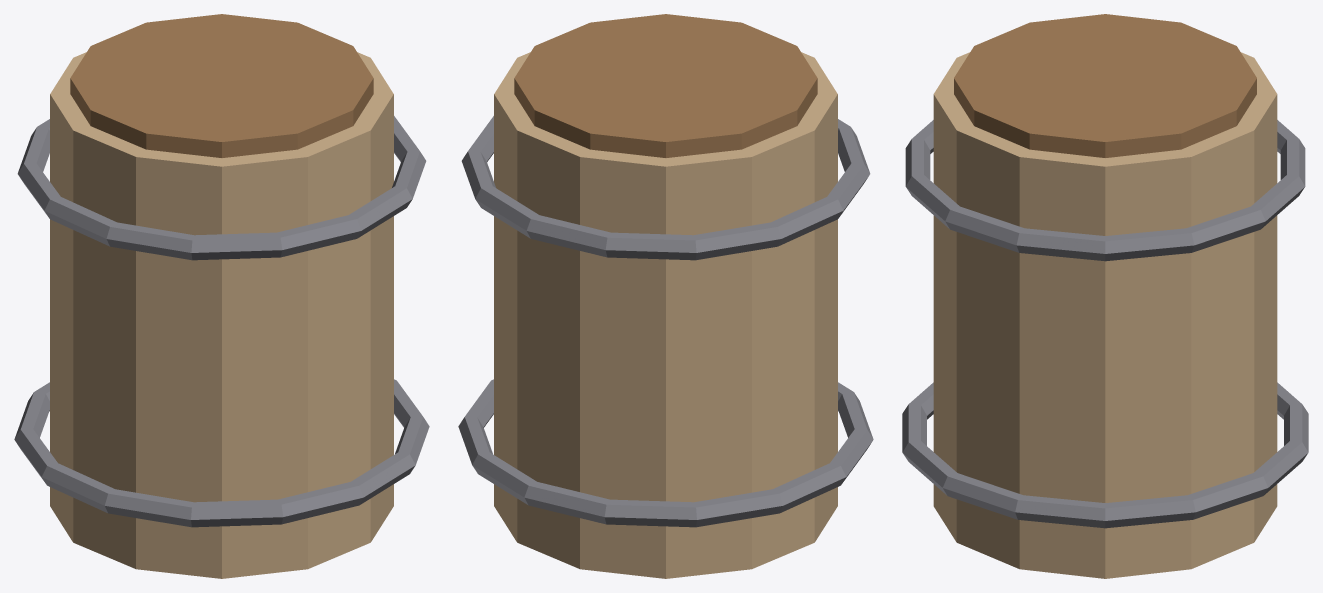
The model's file is ASTX_PROP_BARREL.glb.
3 renders of one model, left to right at view 1: azimuth 30°, elevation 25°; view 2: azimuth 150°, elevation 25°; view 3: azimuth 270°, elevation 25°, orthographic.
Parts seen in each view (by area): view 1: ASTX_PROP_BARREL_body, ASTX_PROP_BARREL_lid, ASTX_PROP_BARREL_hoop0.18, ASTX_PROP_BARREL_hoop0.76; view 2: ASTX_PROP_BARREL_body, ASTX_PROP_BARREL_lid, ASTX_PROP_BARREL_hoop0.18, ASTX_PROP_BARREL_hoop0.76; view 3: ASTX_PROP_BARREL_body, ASTX_PROP_BARREL_lid, ASTX_PROP_BARREL_hoop0.18, ASTX_PROP_BARREL_hoop0.76.
Boxes of the visible parts, x1,y1,x2,y2 form: ASTX_PROP_BARREL_body: [50, 52, 393, 578]; ASTX_PROP_BARREL_lid: [70, 14, 373, 157]; ASTX_PROP_BARREL_hoop0.18: [14, 379, 429, 527]; ASTX_PROP_BARREL_hoop0.76: [17, 116, 426, 260]; ASTX_PROP_BARREL_body: [494, 52, 837, 578]; ASTX_PROP_BARREL_lid: [514, 14, 817, 157]; ASTX_PROP_BARREL_hoop0.18: [458, 379, 873, 527]; ASTX_PROP_BARREL_hoop0.76: [461, 116, 870, 260]; ASTX_PROP_BARREL_body: [933, 52, 1277, 578]; ASTX_PROP_BARREL_lid: [954, 14, 1256, 157]; ASTX_PROP_BARREL_hoop0.18: [902, 382, 1308, 528]; ASTX_PROP_BARREL_hoop0.76: [905, 120, 1305, 261].
Bounding box in the file's own units: 0.824 × 0.935 × 0.8033.
